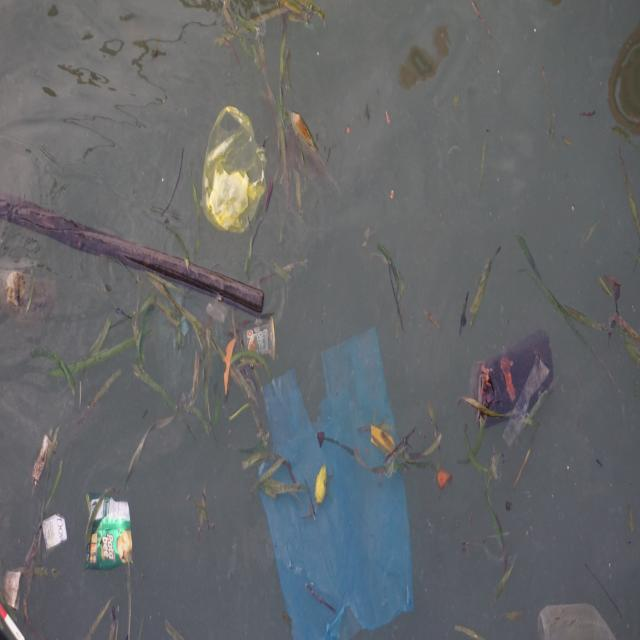Bungkus Makanan: (83, 488, 136, 576)
Bungkus Minuman: (239, 320, 281, 363)
Kantong Plastik: (257, 330, 418, 640), (200, 98, 272, 231)
